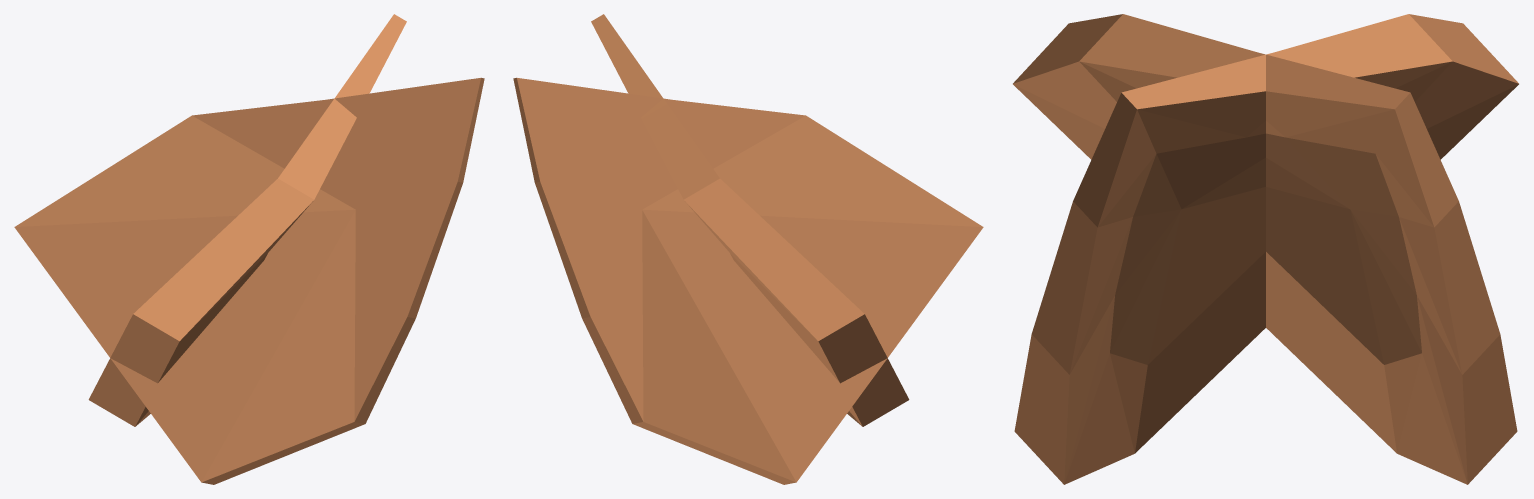
File: elf_long.glb
3 renders of one model, left to right at view 1: azimuth 30°, elevation 25°; view 2: azimuth 150°, elevation 25°; view 3: azimuth 270°, elevation 25°, orthographic. The views are drawn at different scales.
Visible parts, largest first — view 1: Ear_R.001, Ear_L.001; view 2: Ear_L.001, Ear_R.001; view 3: Ear_L.001, Ear_R.001.
Part boxes in pixels (x1=…): Ear_R.001: x1=14, y1=77, x2=484, y2=484; Ear_L.001: x1=88, y1=14, x2=406, y2=426; Ear_L.001: x1=513, y1=77, x2=983, y2=484; Ear_R.001: x1=591, y1=14, x2=909, y2=426; Ear_L.001: x1=1013, y1=14, x2=1517, y2=484; Ear_R.001: x1=1014, y1=14, x2=1518, y2=484.
Size of the model in its own units: 0.0717 by 0.0637 by 0.051.
Materials: 1 (1 with a texture image).
